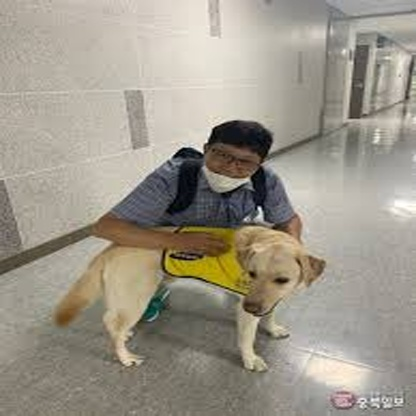guide-dog: (63, 223, 333, 369)
